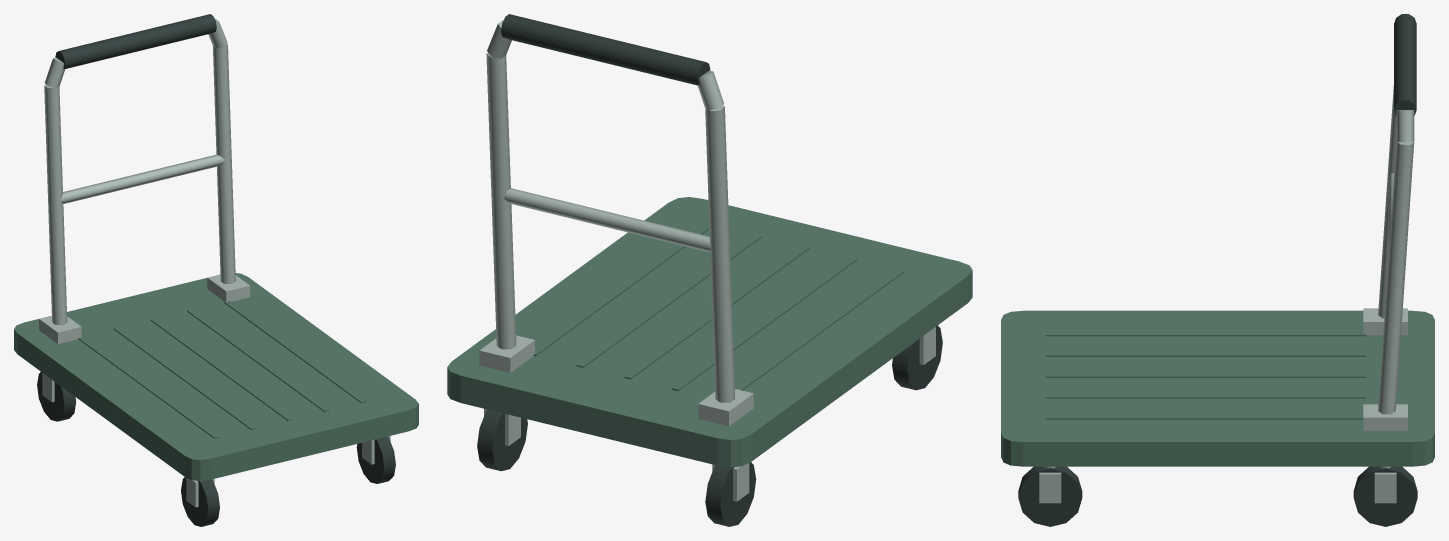
Rendered from dolly-v1.glb.
The picture shows the model from 3 angles, left to right: view 1: azimuth 30°, elevation 25°; view 2: azimuth 150°, elevation 25°; view 3: azimuth 270°, elevation 25°; orthographic projection. The views are drawn at different scales.
Visible parts, largest first — view 1: 운반대차; view 2: 운반대차; view 3: 운반대차.
Boxes of the visible parts, box(x1,y1,x2,y2) form: 운반대차: box(14, 14, 418, 526); 운반대차: box(447, 14, 972, 526); 운반대차: box(1001, 14, 1434, 526).
Size of the model in its own units: 0.63 by 0.9319 by 0.88.
